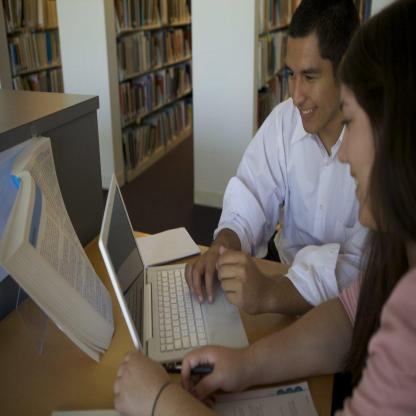board: (104, 180, 262, 382)
